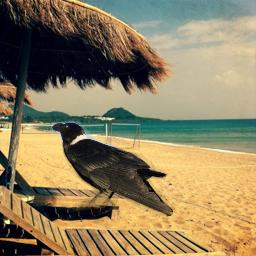Crow: (50, 119, 173, 216)
